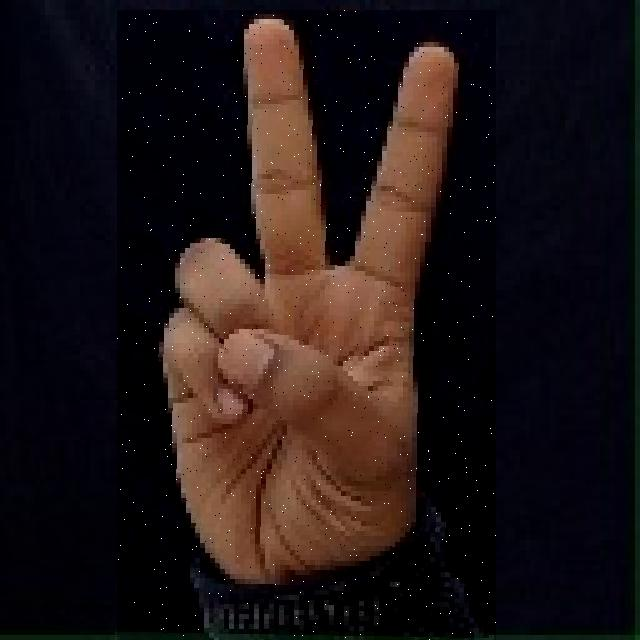No: (117, 10, 496, 640)
